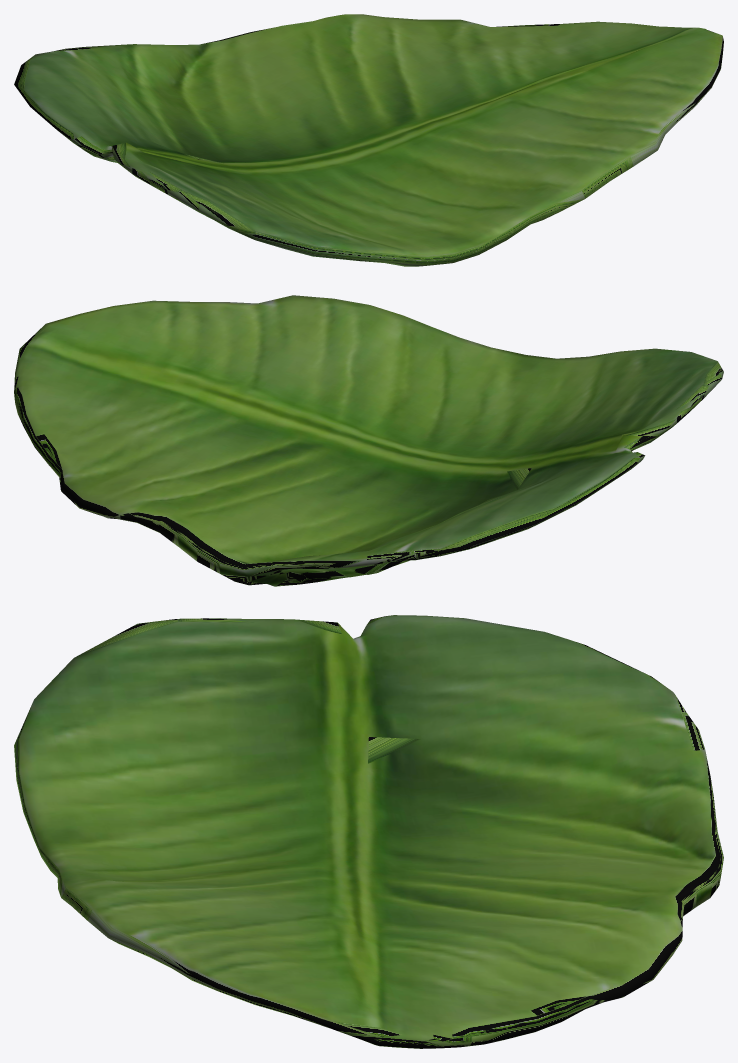
The model's file is Banana-Peal.fbx.
3 views of the same model, one above another, from view 1: azimuth 30°, elevation 25°; view 2: azimuth 150°, elevation 25°; view 3: azimuth 270°, elevation 25° (orthographic). The views are drawn at different scales.
Visible parts, largest first — view 1: Banana-Peal; view 2: Banana-Peal; view 3: Banana-Peal.
Part boxes in pixels (<box>): Banana-Peal: <box>14,14,723,266</box>; Banana-Peal: <box>14,295,723,586</box>; Banana-Peal: <box>14,615,723,1048</box>.
Size of the model in its own units: 99.04 by 15.55 by 80.54.
